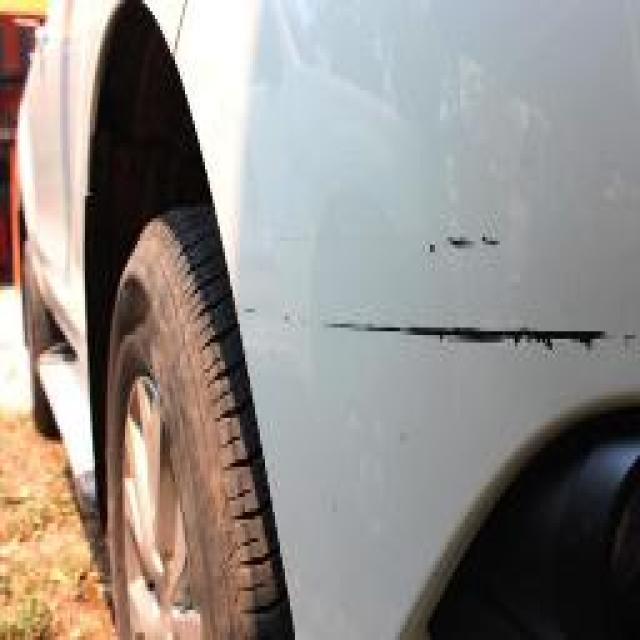Bumper: (245, 181, 640, 418)
